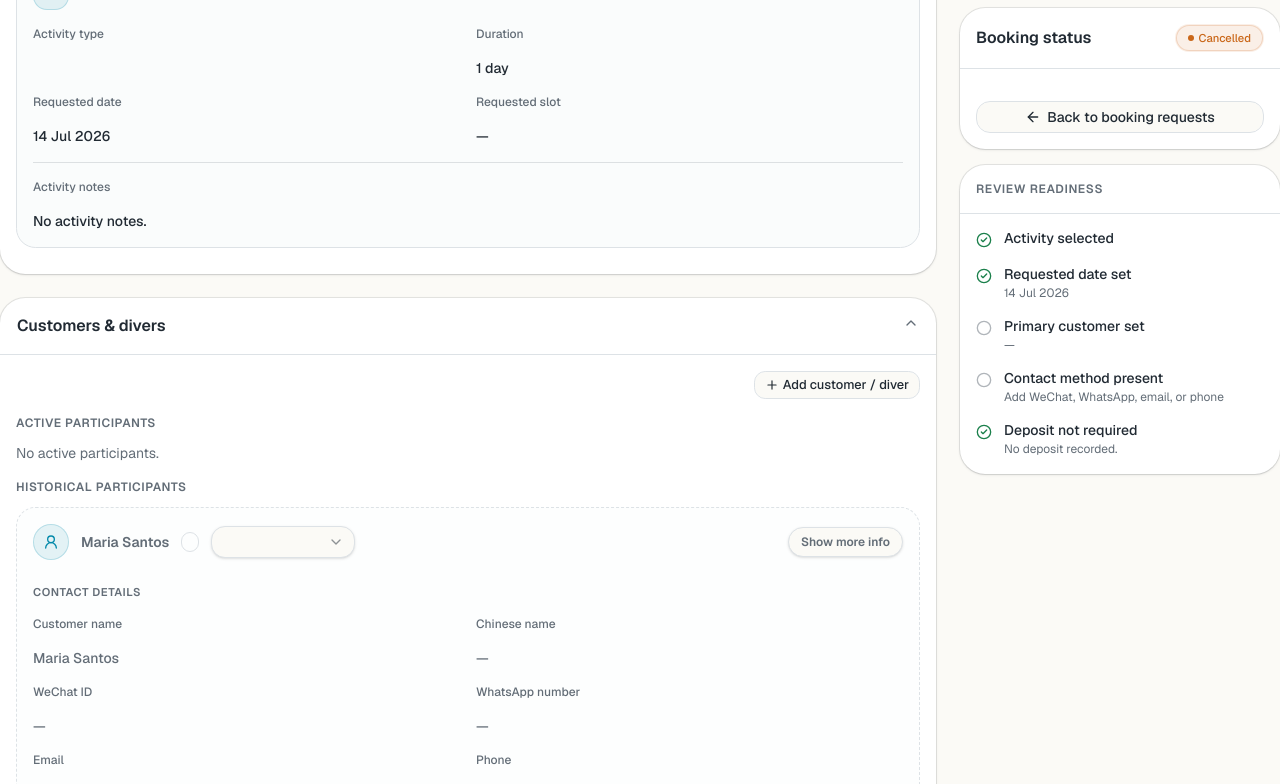
Test: shows inline add participant errors returned by the server action
This screenshot has width=1280, height=784.
(page scrolled)
Click the button "Add customer / diver" at [837, 385], box x1=754 y1=371 x2=920 y2=399
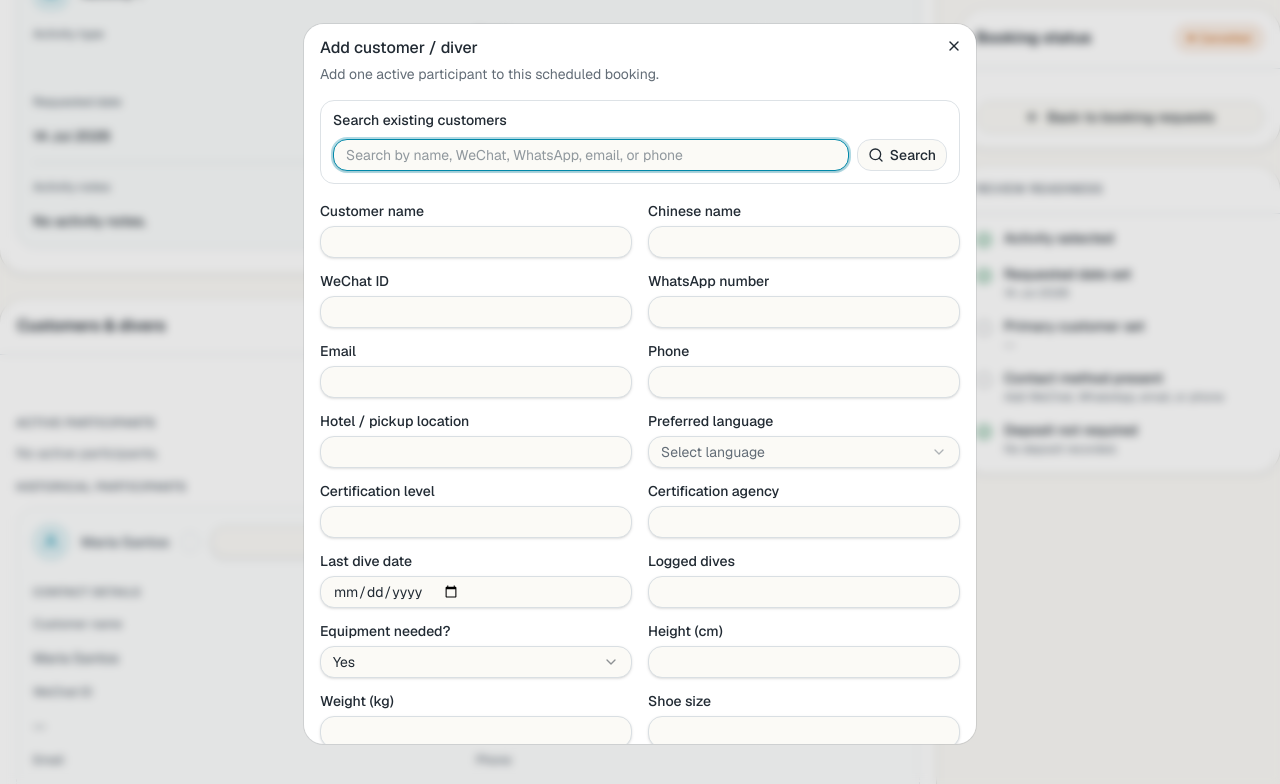
Type "Lina Park" into the field labelled "Customer name" at [476, 242], box x1=320 y1=226 x2=632 y2=258
(page scrolled)
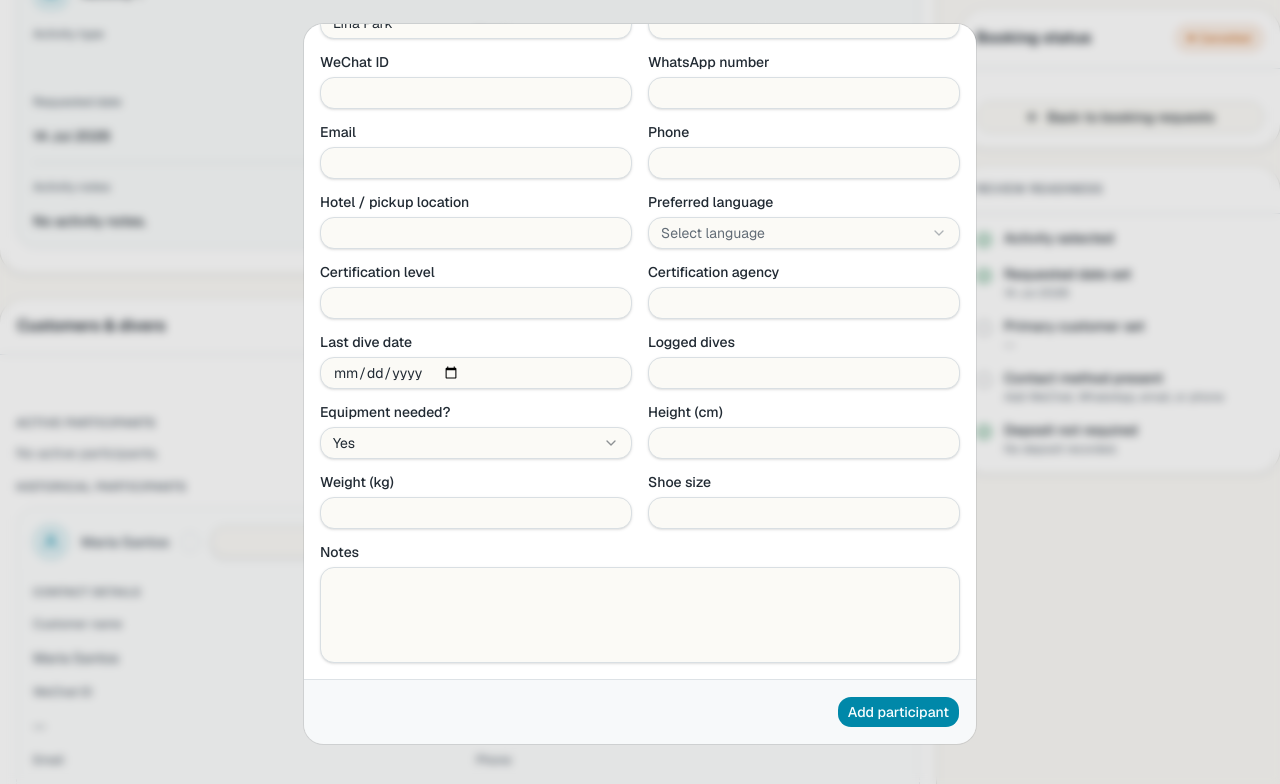
Click the button "Add participant" at [898, 712], box x1=837 y1=696 x2=960 y2=728
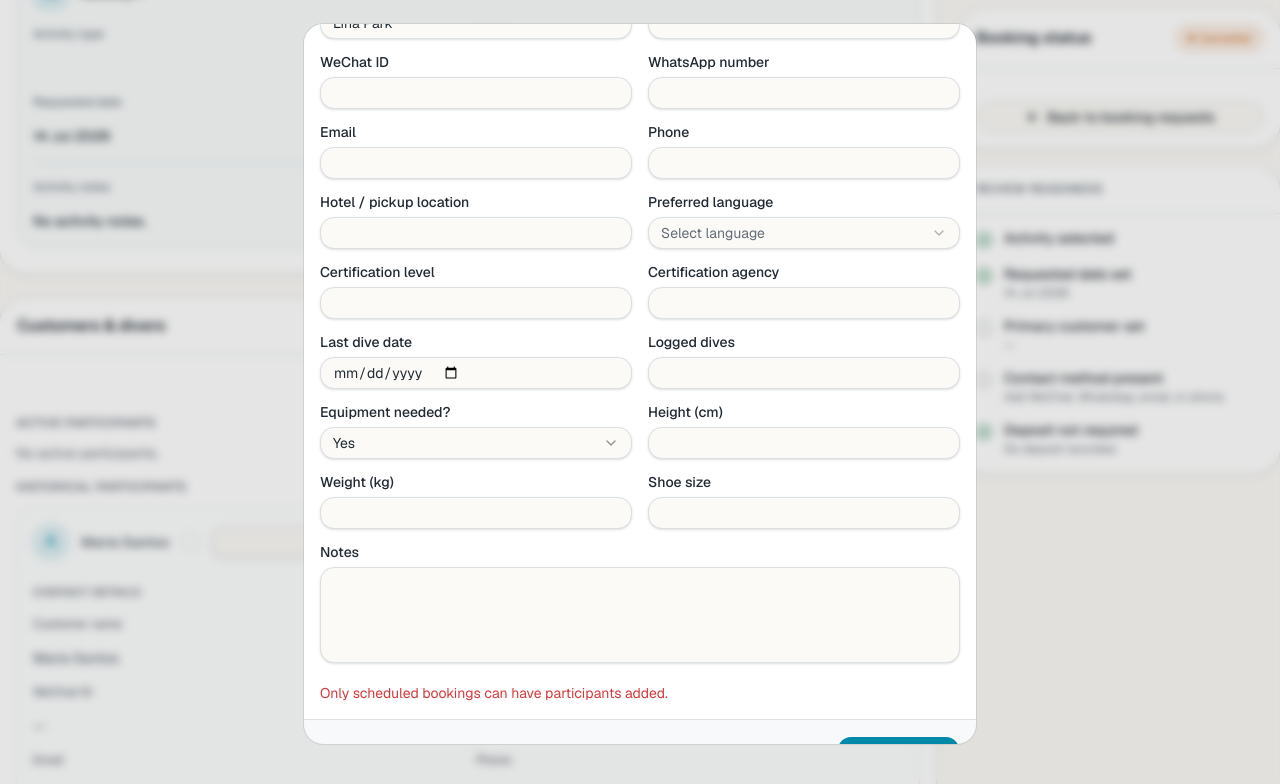
Now the text "Only scheduled bookings can have participants added." is shown, box x1=320 y1=684 x2=668 y2=702
